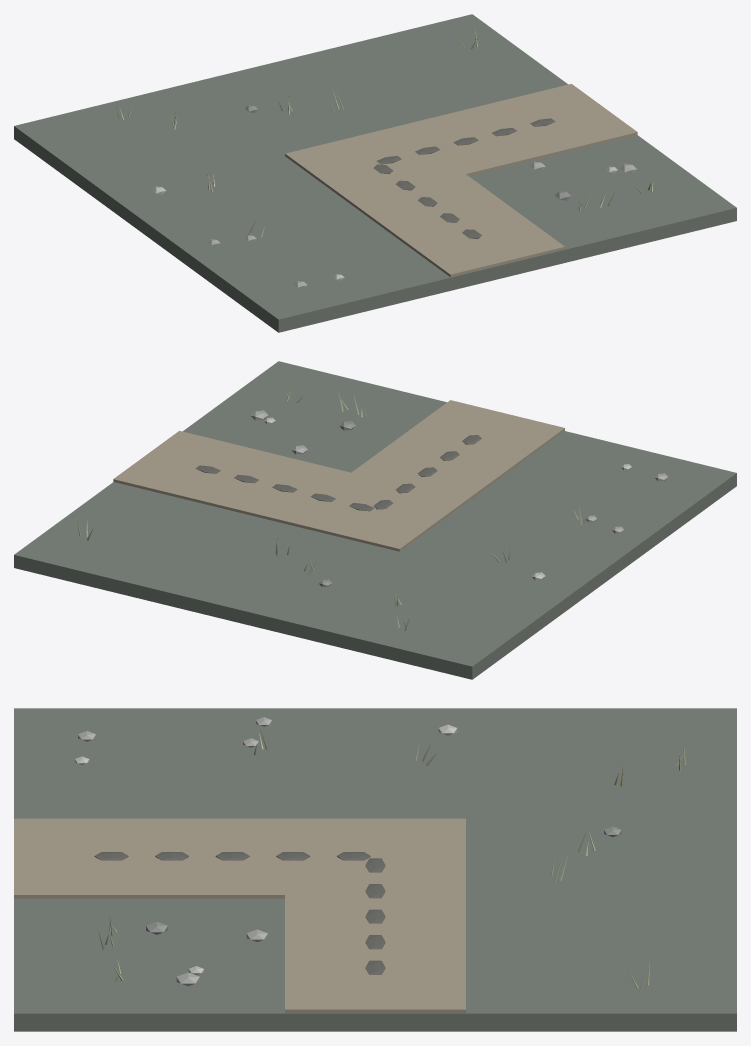
The model's file is path_bend_es.glb.
3 views of the same model, one above another, from view 1: azimuth 30°, elevation 25°; view 2: azimuth 150°, elevation 25°; view 3: azimuth 270°, elevation 25° (orthographic). The views are drawn at different scales.
Visible parts, largest first — view 1: road_material_00, road_material_01, road_material_07; view 2: road_material_00, road_material_01, road_material_07; view 3: road_material_00, road_material_01, road_material_07, road_material_06, road_material_03.
Boxes of the visible parts, box(x1,y1,x2,y2) form: road_material_00: box(14, 14, 736, 332); road_material_01: box(285, 84, 637, 277); road_material_07: box(373, 118, 555, 238); road_material_00: box(14, 361, 736, 679); road_material_01: box(113, 400, 564, 551); road_material_07: box(195, 435, 481, 511); road_material_00: box(14, 708, 736, 1031); road_material_01: box(14, 818, 465, 1013); road_material_07: box(94, 852, 385, 974); road_material_06: box(78, 717, 272, 986); road_material_03: box(104, 733, 685, 992).
Bounding box in the file's own units: 8 × 0.5381 × 8.
